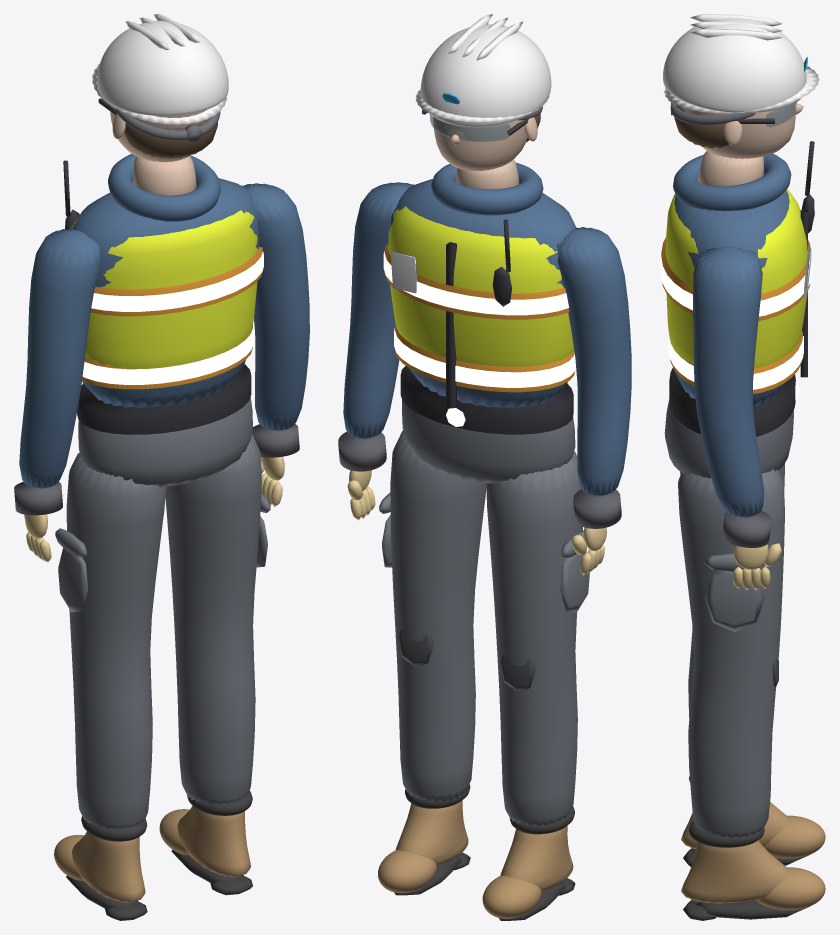
File: field_engineer.glb
3 views of the same model, side by side, from view 1: azimuth 30°, elevation 25°; view 2: azimuth 150°, elevation 25°; view 3: azimuth 270°, elevation 25° (orthographic).
Parts seen in each view (by area): view 1: TrouserLeg_-1, TrouserLeg_1, ANSI_HiVisVest, ShirtSleeveArm_-1, ShirtSleeveArm_1, MSA_HardHatShell, TrouserPelvis, TorsoWorkShirt, LeatherWorkBelt, ShirtCollar, BootUpper_-1, BootUpper_1 (+18 smaller); view 2: TrouserLeg_1, TrouserLeg_-1, ANSI_HiVisVest, ShirtSleeveArm_-1, ShirtSleeveArm_1, MSA_HardHatShell, TrouserPelvis, TorsoWorkShirt, LeatherWorkBelt, SculptedHead, ShirtCollar, BootUpper_1 (+18 smaller); view 3: TrouserLeg_1, ShirtSleeveArm_1, MSA_HardHatShell, ANSI_HiVisVest, BootUpper_1, TorsoWorkShirt, ShirtCollar, TrouserPelvis, SculptedHead, LeatherWorkBelt, CargoPocket_1, BootToe_1 (+23 smaller).
Part boxes in pixels (x1,y1,x2,y2): TrouserLeg_-1: (66,452,165,828); TrouserLeg_1: (165,434,261,804); ANSI_HiVisVest: (70,210,257,369); ShirtSleeveArm_-1: (19,228,100,488); ShirtSleeveArm_1: (242,183,309,431); MSA_HardHatShell: (97,20,228,115); TrouserPelvis: (78,397,252,487); TorsoWorkShirt: (72,178,259,408); LeatherWorkBelt: (77,364,251,434); ShirtCollar: (108,154,220,221); BootUpper_-1: (72,831,145,902); BootUpper_1: (177,805,250,876); TrouserLeg_1: (390,430,486,802); TrouserLeg_-1: (486,451,582,825); ANSI_HiVisVest: (388,206,573,366); ShirtSleeveArm_-1: (556,227,631,497); ShirtSleeveArm_1: (343,182,413,439); MSA_HardHatShell: (420,24,551,126); TrouserPelvis: (402,399,575,483); TorsoWorkShirt: (390,179,576,408); LeatherWorkBelt: (400,366,573,434); SculptedHead: (433,117,527,170); ShirtCollar: (431,162,543,215); BootUpper_1: (395,800,468,865); TrouserLeg_1: (678,469,784,837); ShirtSleeveArm_1: (693,246,764,518); MSA_HardHatShell: (663,18,806,112); ANSI_HiVisVest: (665,188,807,368); BootUpper_1: (681,840,788,903); TorsoWorkShirt: (674,190,789,407); ShirtCollar: (673,153,791,210); TrouserPelvis: (664,399,793,478); SculptedHead: (681,103,795,158); LeatherWorkBelt: (669,368,795,436); CargoPocket_1: (704,570,764,631); BootToe_1: (756,867,825,910).
Bounding box in the file's own units: 0.606 × 1.8 × 0.3109.
